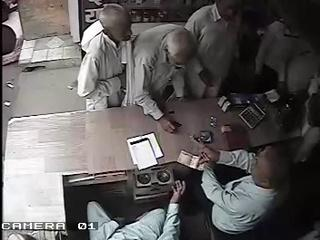Normal: (196, 96, 304, 239), (122, 23, 199, 134), (87, 180, 184, 240), (184, 0, 242, 98)
shoplifting: (76, 3, 132, 111)
